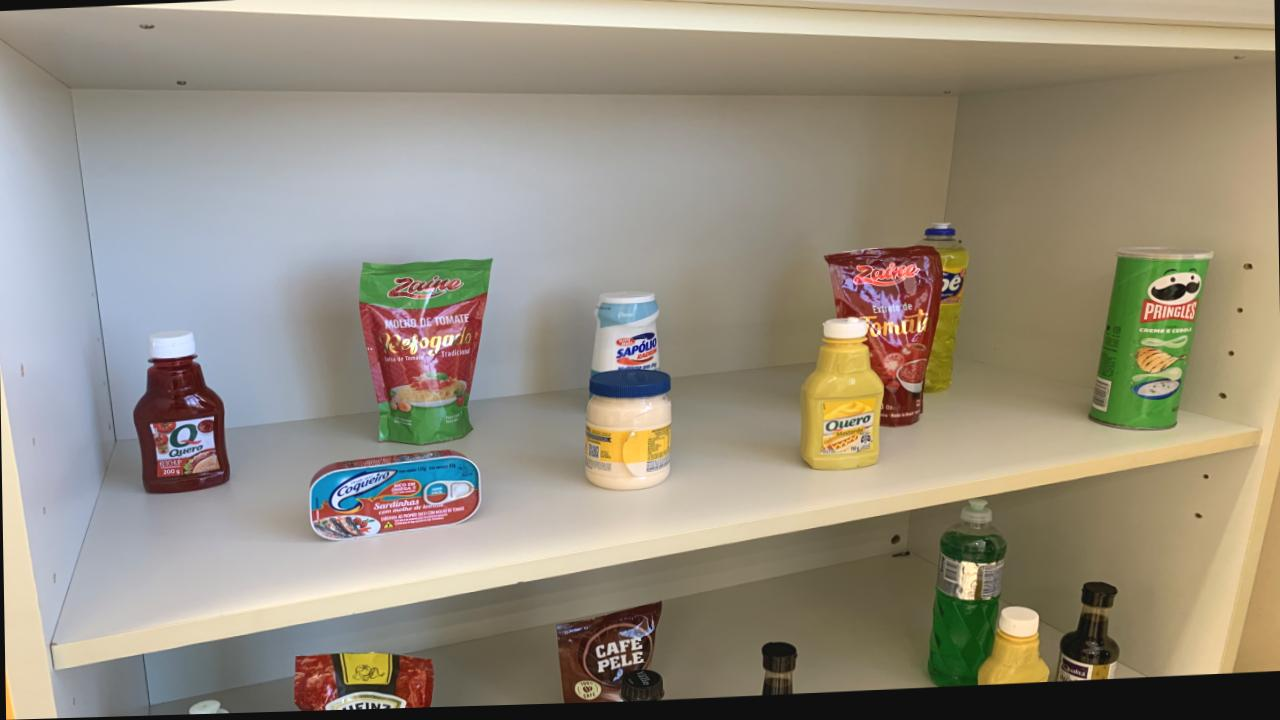Cleaner-Cleanup_Items: (590, 294, 660, 379)
Coffee-Pantry_Items: (557, 607, 662, 707)
Detergent-Cleanup_Items: (928, 505, 1006, 691), (921, 229, 969, 399), (189, 700, 229, 716)
English_Sauce-Pantry_Items: (1056, 589, 1118, 688), (760, 647, 798, 700)
Ketchup-Pantry_Items: (133, 332, 230, 494)
Mayonnaise-Pantry_Items: (584, 373, 672, 494)
Mustard-Pantry_Items: (799, 323, 884, 475), (978, 613, 1049, 691)
Pringles-Snacks: (1089, 255, 1211, 437)
Tomato_Sauce-Pantry_Items: (359, 262, 491, 448), (826, 251, 944, 433), (293, 654, 434, 713)
Tuna_Can-Pantry_Items: (310, 452, 480, 543)
